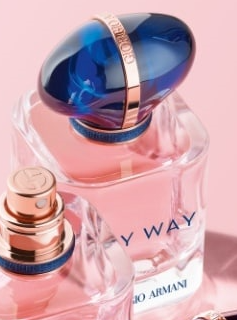armani_my_way_floral: (8, 6, 204, 301)
